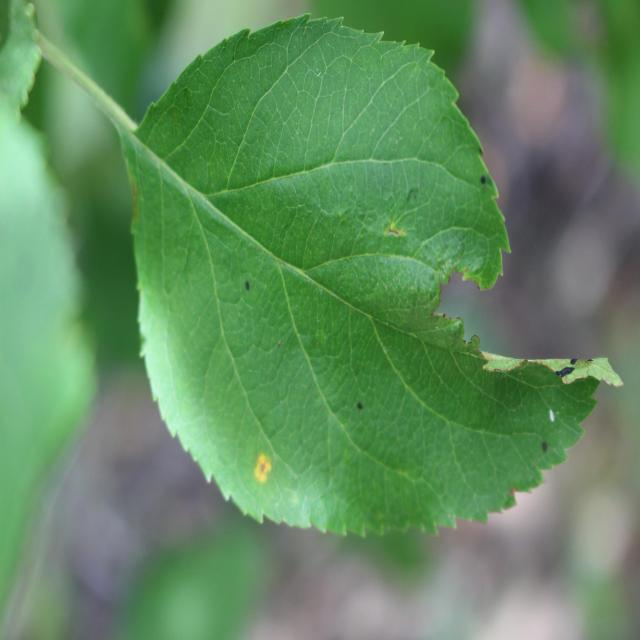rust: (119, 14, 624, 541)
